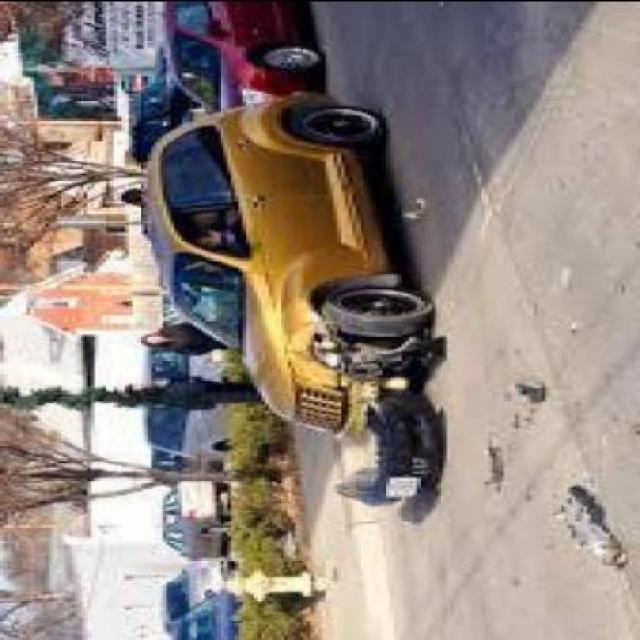damage: (268, 271, 438, 508)
